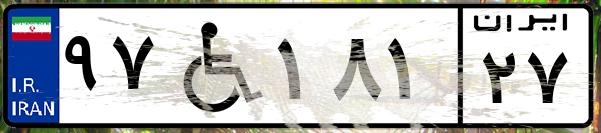1: (270, 28, 330, 110), (385, 28, 445, 110)
2: (475, 38, 525, 113)
7: (525, 38, 570, 115), (110, 28, 158, 98)
8: (330, 28, 385, 110)
9: (57, 26, 110, 100)
ژ (معلولین و جانبازان): (158, 12, 270, 120)
